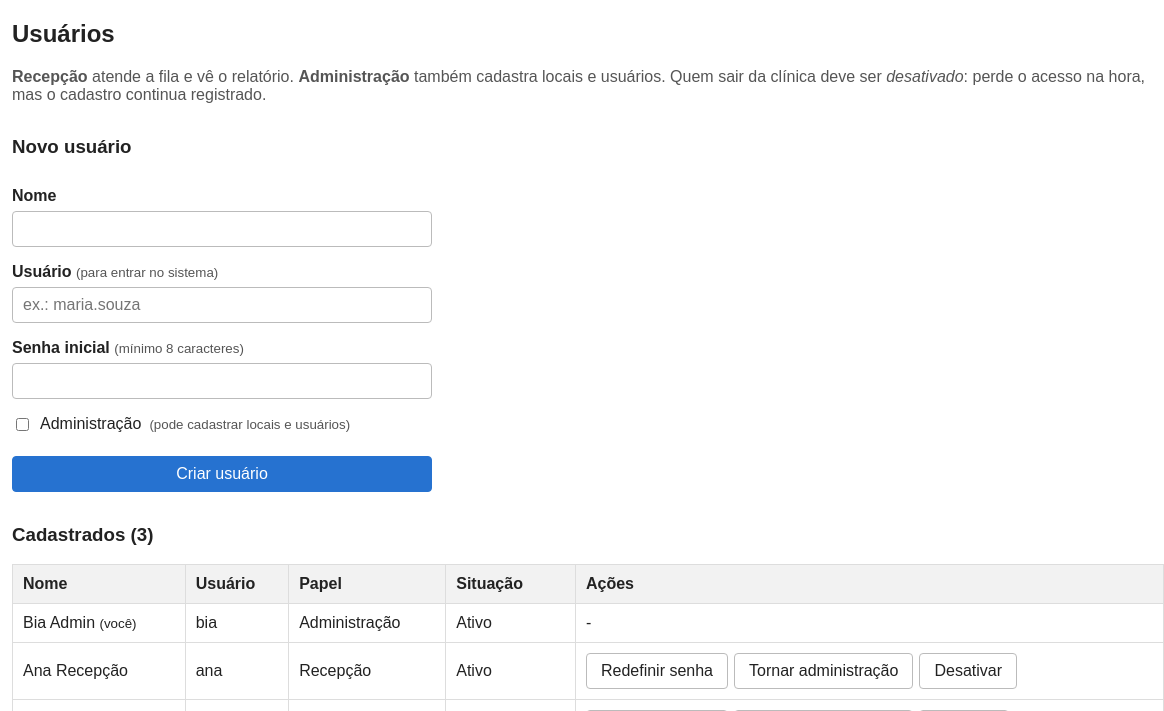
criar: manda os campos (com a caixa de administração) e limpa o formulário
Type "Carla Dias" into the field labelled "Nome" at (222, 228), box [12,210,432,246]
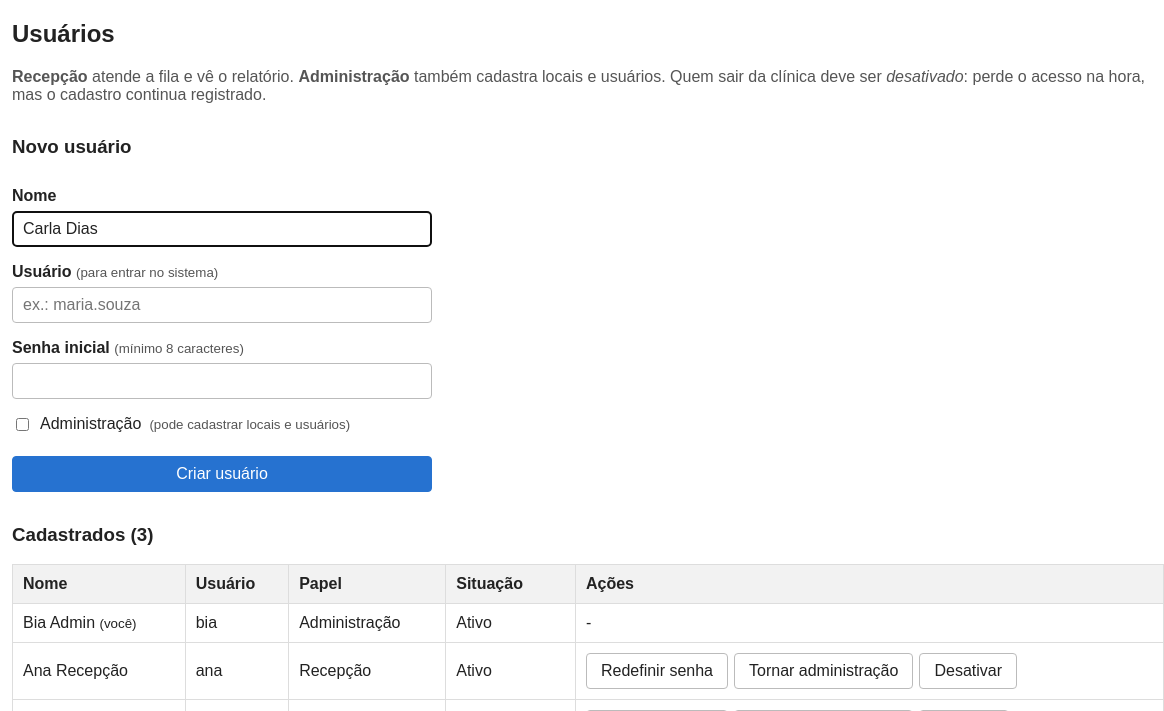
Type "carla" into the field labelled "Usuário (para entrar no sistema)" at (222, 304), box [12,286,432,322]
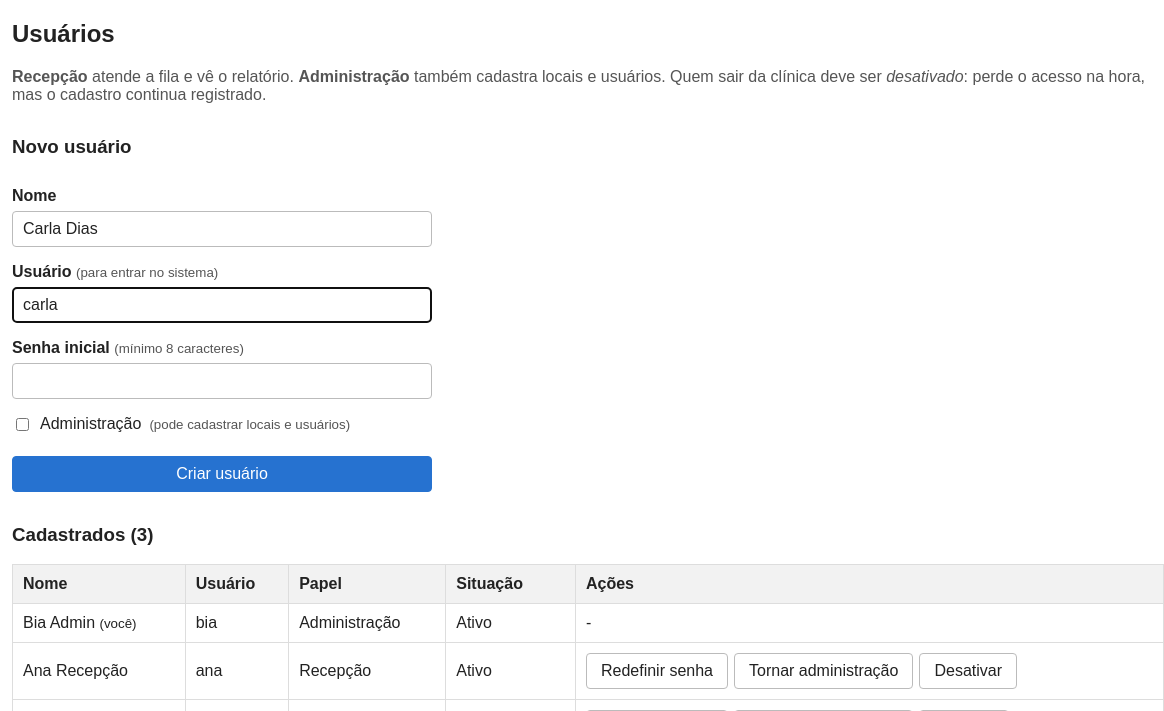
Type "senha-boa-123" into the password field labelled "Senha inicial (mínimo 8 caracteres)" at (222, 380), box [12,362,432,398]
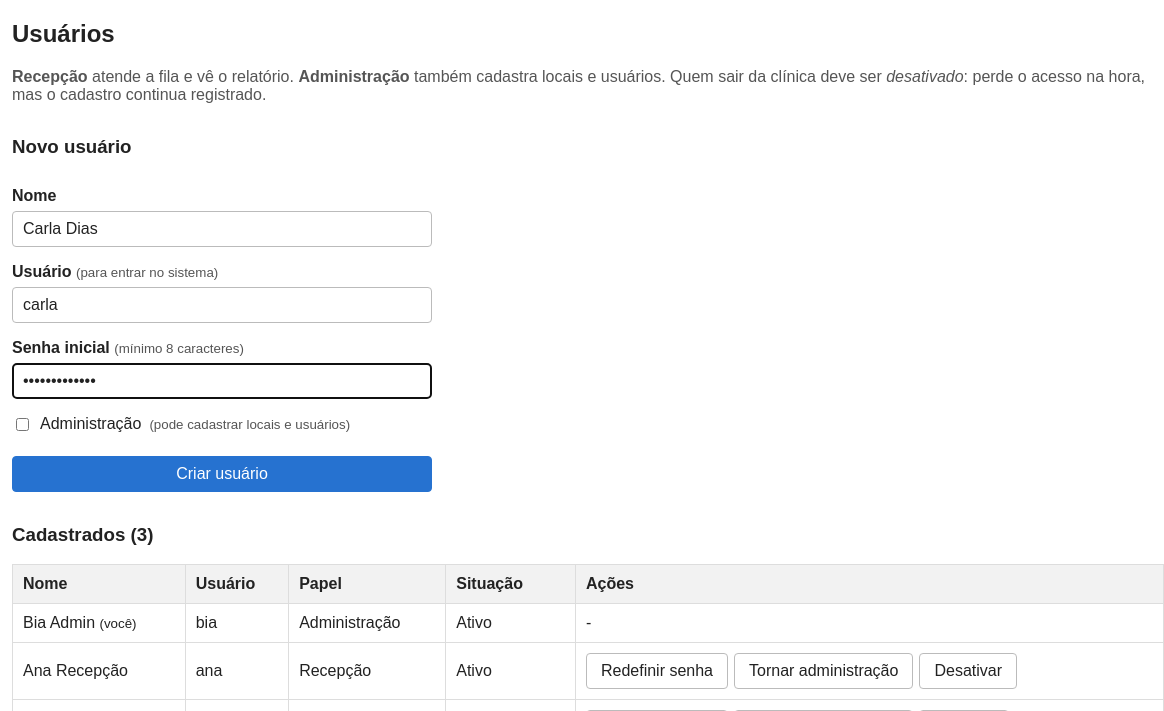
Click the checkbox labelled "Administração (pode cadastrar locais e usuários)" at (22, 424), box [16,418,29,430]
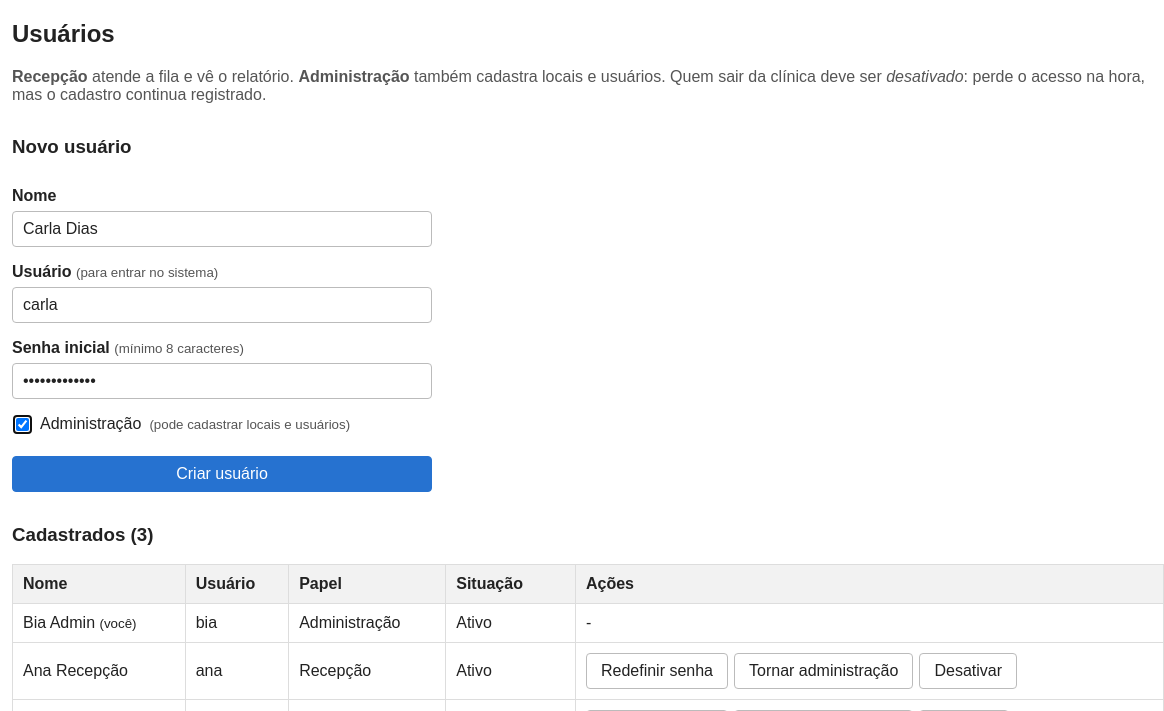
Click the button "Criar usuário" at (222, 474), box [12,456,432,492]
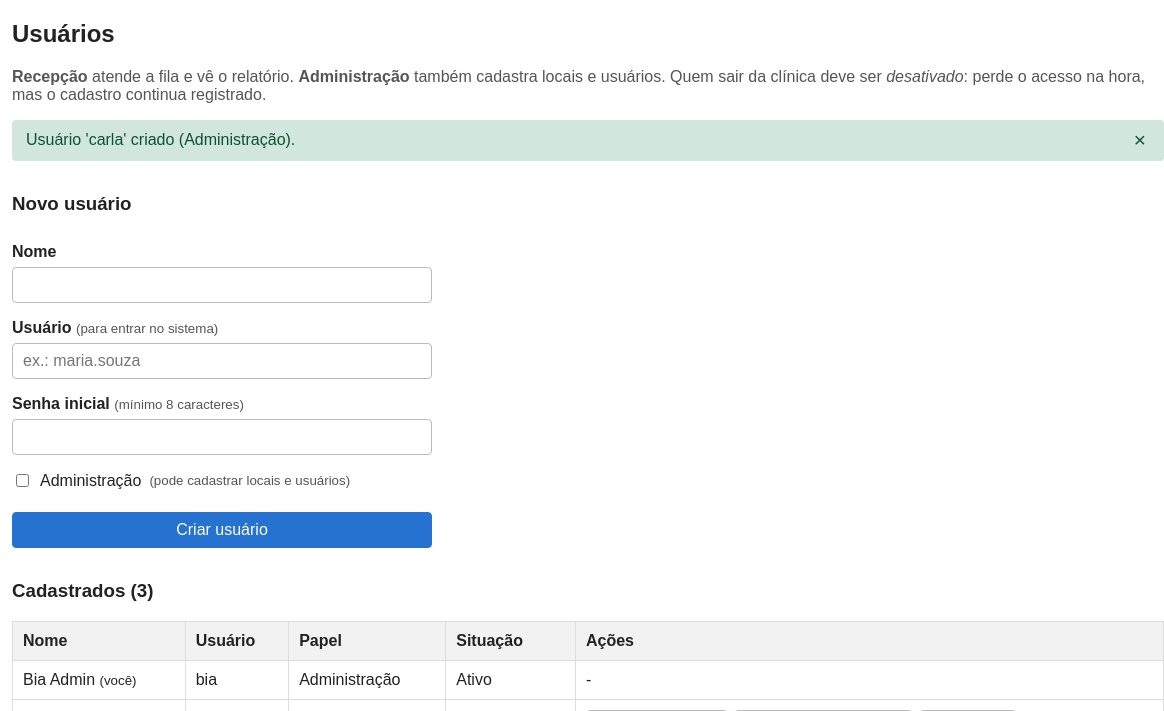
Check: the checkbox labelled "Administração (pode cadastrar locais e usuários)" is not checked, box [16,474,29,487]
Check: the message shows "Usuário 'carla' criado", box [26,131,295,148]
Check: the field labelled "Nome" is empty, box [12,267,432,303]
